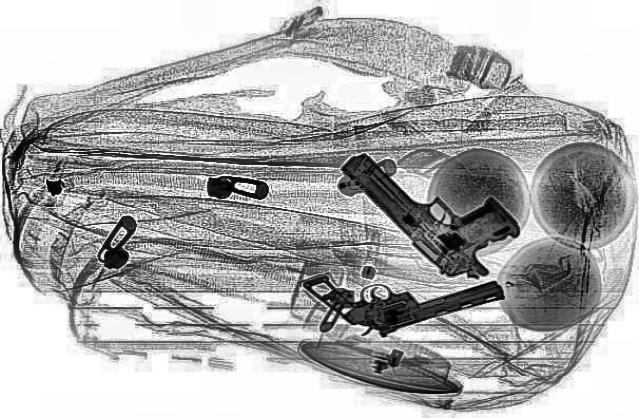Gun: (330, 130, 552, 286), (300, 237, 512, 346)
